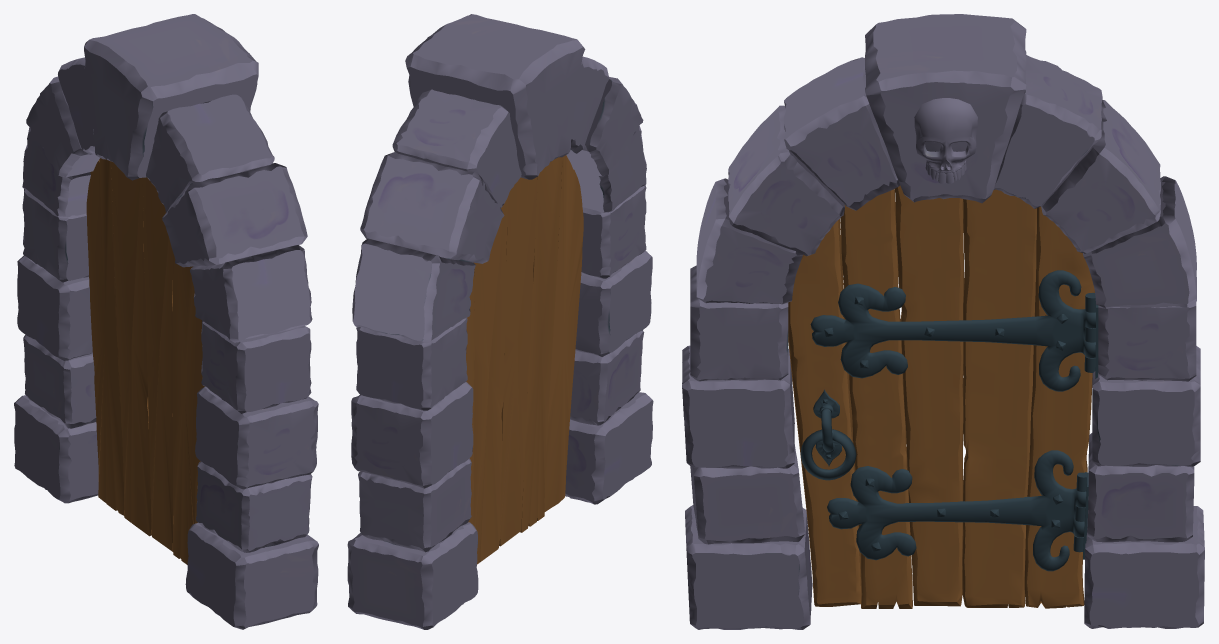
File: door_exp2.fbx
3 views of the same model, side by side, from view 1: azimuth 30°, elevation 25°; view 2: azimuth 150°, elevation 25°; view 3: azimuth 270°, elevation 25° (orthographic). The views are drawn at different scales.
Visible parts, largest first — view 1: skull1; view 2: skull1; view 3: skull1.
Part boxes in pixels (x1=…): skull1: x1=14, y1=14, x2=318, y2=629; skull1: x1=347, y1=14, x2=653, y2=629; skull1: x1=682, y1=14, x2=1204, y2=629.
Bounding box in the file's own units: 128 × 453 × 376.
